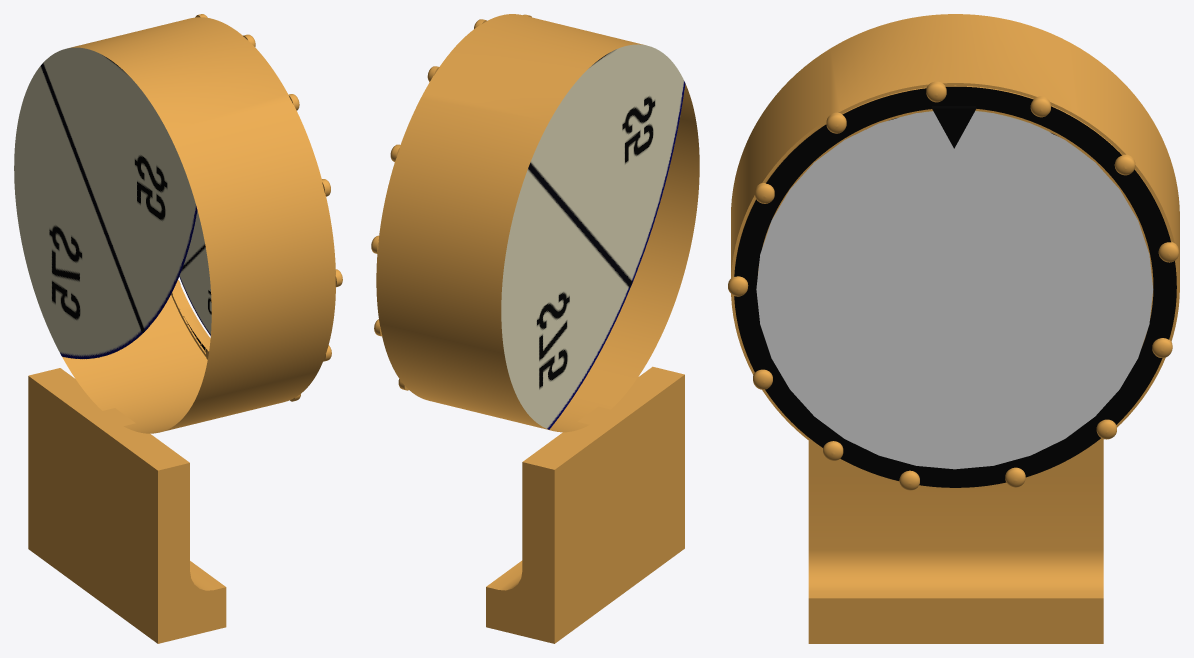
The model's file is The_Wheel_NoTexture.fbx.
The picture shows the model from 3 angles, left to right: view 1: azimuth 30°, elevation 25°; view 2: azimuth 150°, elevation 25°; view 3: azimuth 270°, elevation 25°; orthographic projection. The views are drawn at different scales.
Parts seen in each view (by area): view 1: Body, Circle.001, Balls; view 2: Body, Balls; view 3: Circle.002, Body, Balls, Triangle.
Boxes of the visible parts, box(x1,y1,x2,y2) form: Body: box(14, 17, 335, 643); Circle.001: box(179, 210, 211, 335); Balls: box(171, 14, 342, 401); Body: box(376, 14, 699, 643); Balls: box(371, 14, 531, 390); Circle.002: box(756, 111, 1153, 469); Body: box(731, 14, 1179, 643); Balls: box(728, 81, 1178, 490); Triangle: box(932, 106, 976, 148).
Size of the model in its own units: 669 by 2225 by 1508.
